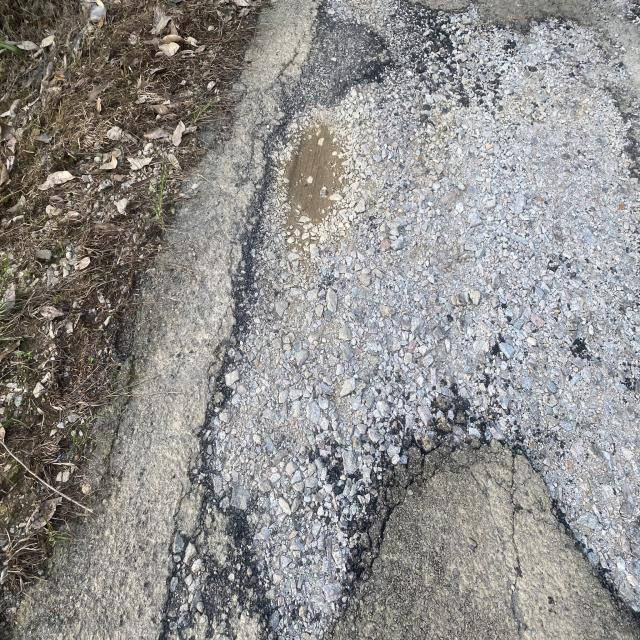pothole: (234, 50, 484, 640)
